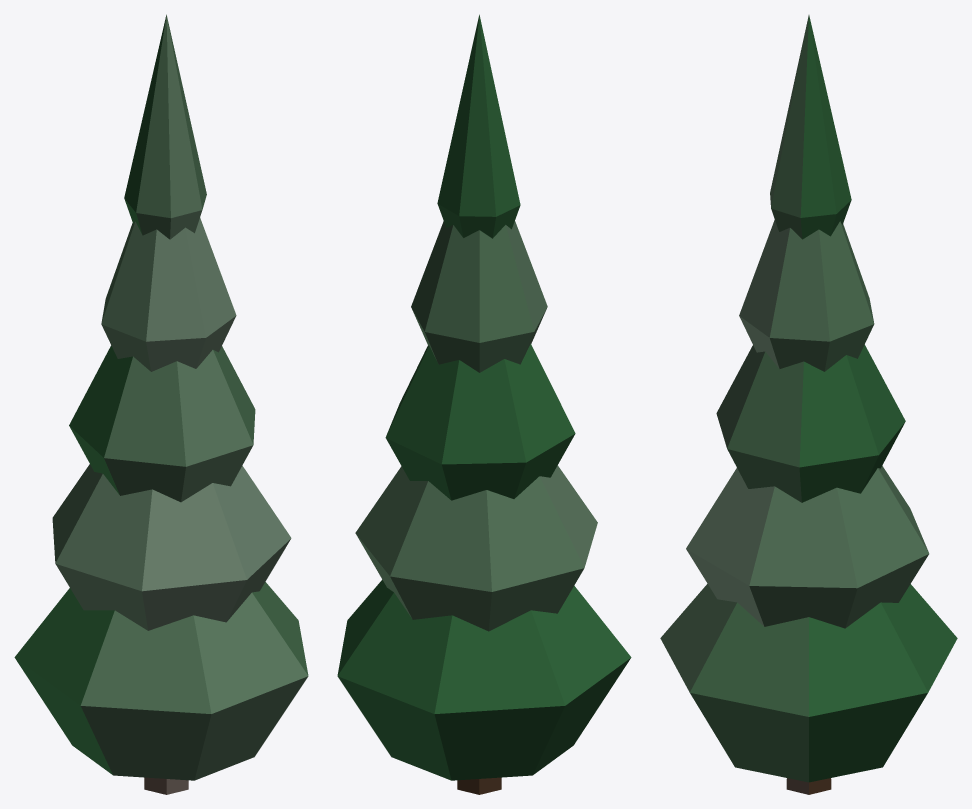
File: conifer_spire_xl.glb
The picture shows the model from 3 angles, left to right: view 1: azimuth 30°, elevation 25°; view 2: azimuth 150°, elevation 25°; view 3: azimuth 270°, elevation 25°; orthographic projection.
Visible parts, largest first — view 1: conifer_spire_xl; view 2: conifer_spire_xl; view 3: conifer_spire_xl.
Part boxes in pixels (box(x1,y1,x2,y2)): conifer_spire_xl: box(14, 14, 308, 794); conifer_spire_xl: box(337, 14, 631, 794); conifer_spire_xl: box(660, 15, 957, 794).
Size of the model in its own units: 3.33 by 9.75 by 3.41.
